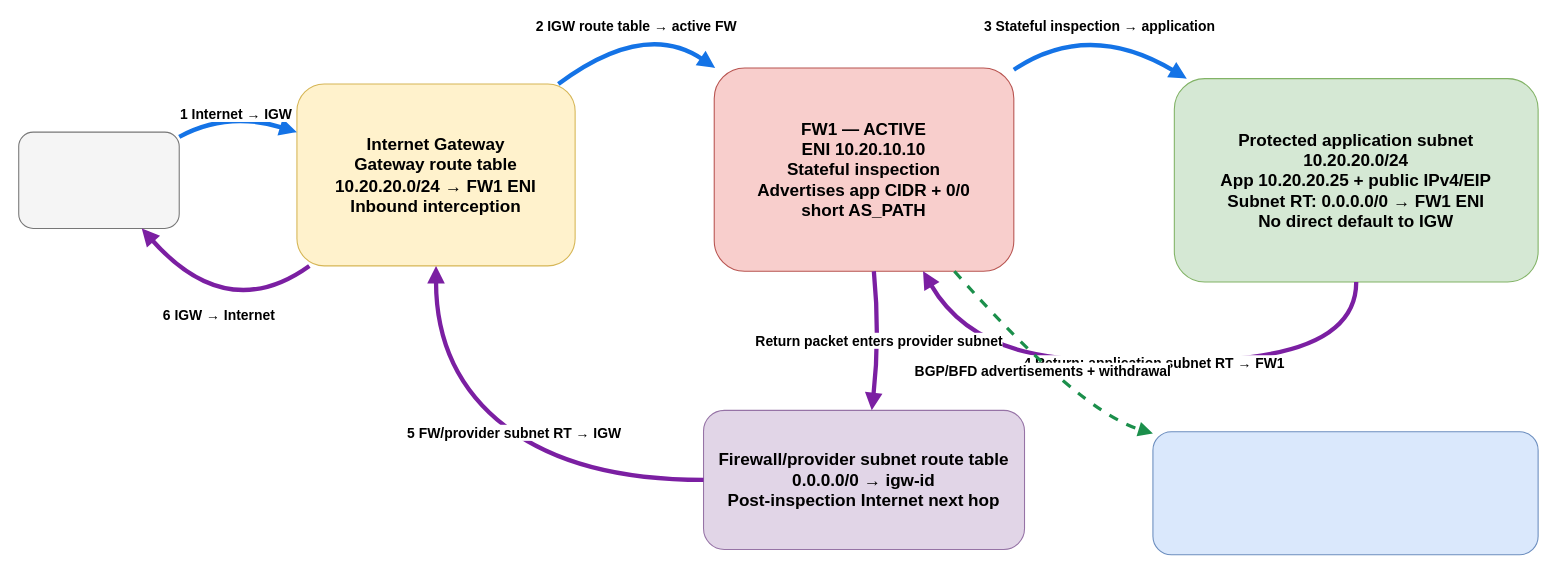
Image size: 1557x575. Some labels were removed from this diagram. The centre of each missing label's shape, as x and y in pixels:
"Internet Client" goes at (x=98, y=179).
"VPC Route Server BGP/BFD control plane Best path installs active firewall ENI" goes at (x=1345, y=493).
